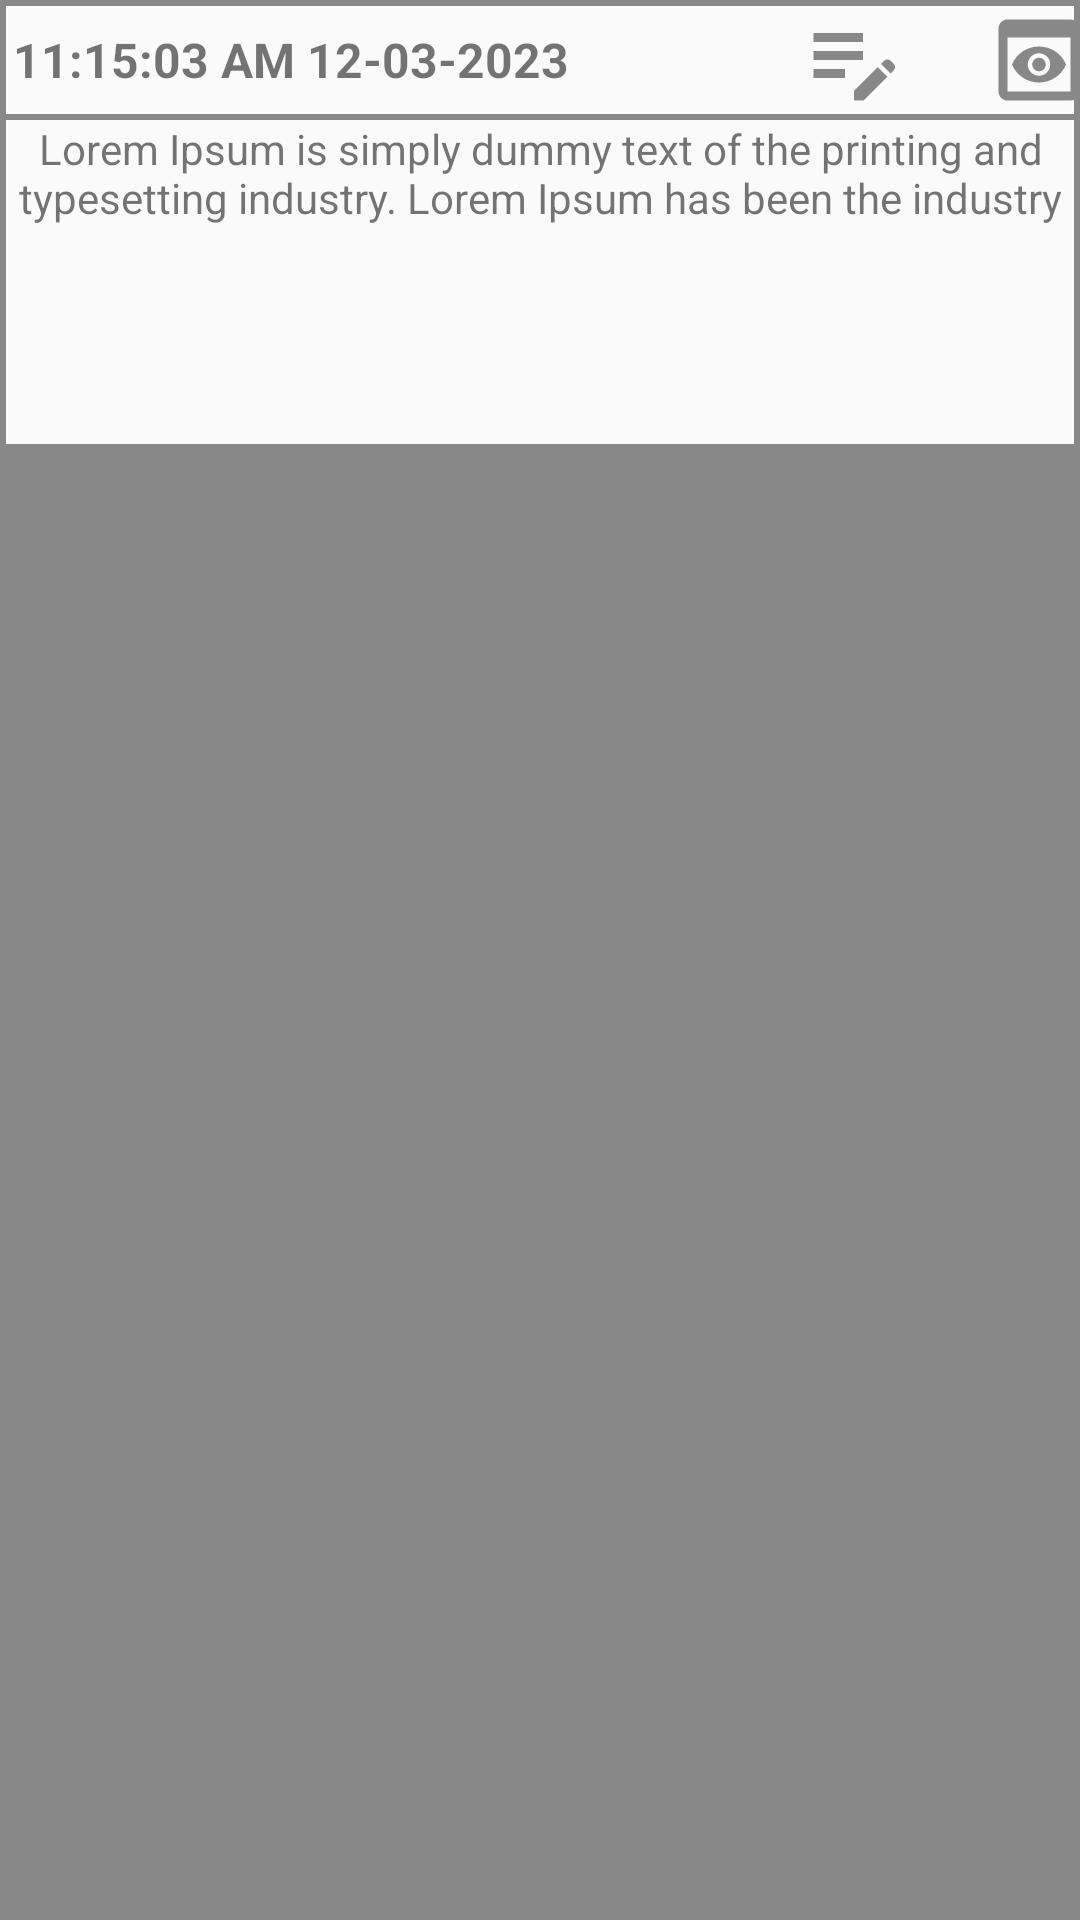

Where icons sit on this 1080 × 1920 app screen, as (x1, y1, x2, y2):
edit note: (813, 33, 895, 101)
